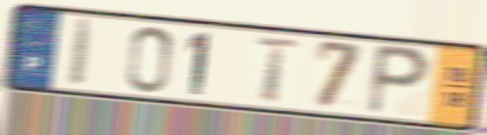0: (125, 24, 176, 95)
1: (185, 31, 210, 97)
7: (310, 38, 367, 111)
I: (66, 16, 99, 90)
P: (363, 40, 435, 119)
T: (252, 34, 305, 105)
